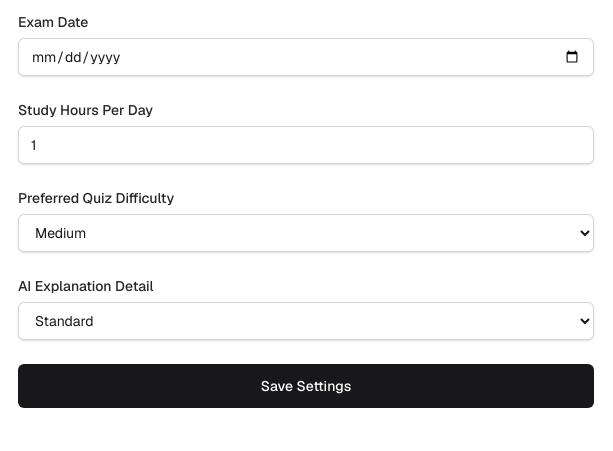
Test: SettingsForm › rejects an exam date before today
Step 1. Type "2026-08-24" into the date field labelled "Exam Date" → (306, 57), box [18, 38, 594, 76]
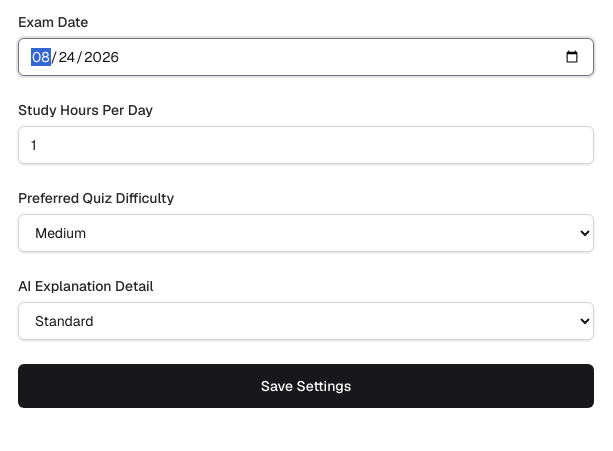
Step 2. Click the button "Save Settings" → (306, 386), box [18, 364, 594, 408]
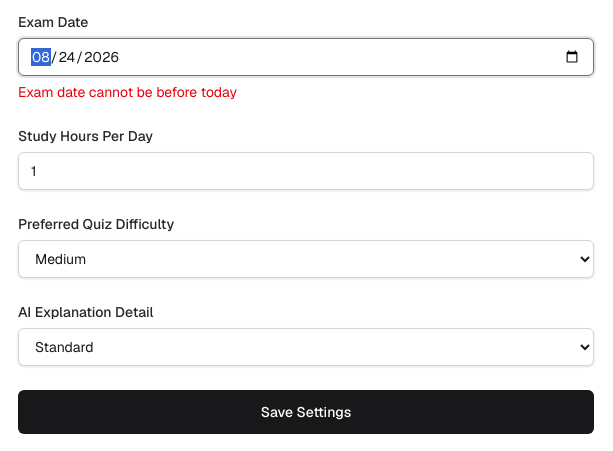
Expected: the text "Exam date cannot be before today" is shown, [18, 83, 237, 101]
